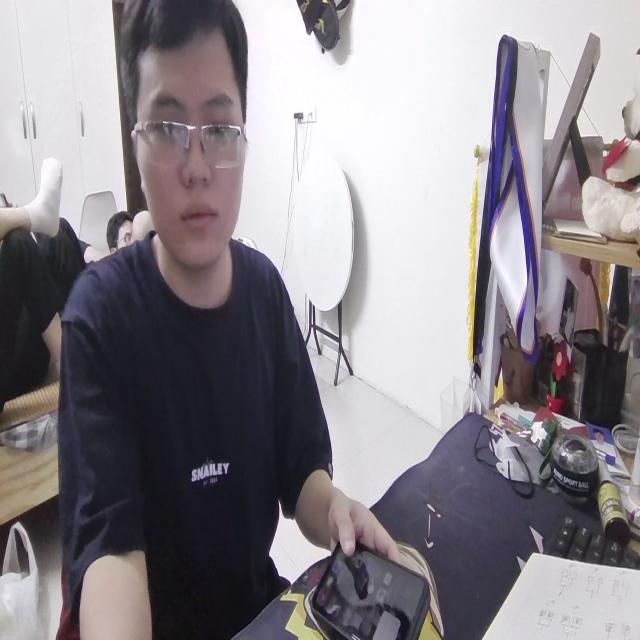book: (477, 546, 640, 640)
extra_person: (105, 207, 151, 252)
phone: (309, 530, 428, 640)
student: (54, 0, 402, 640)
